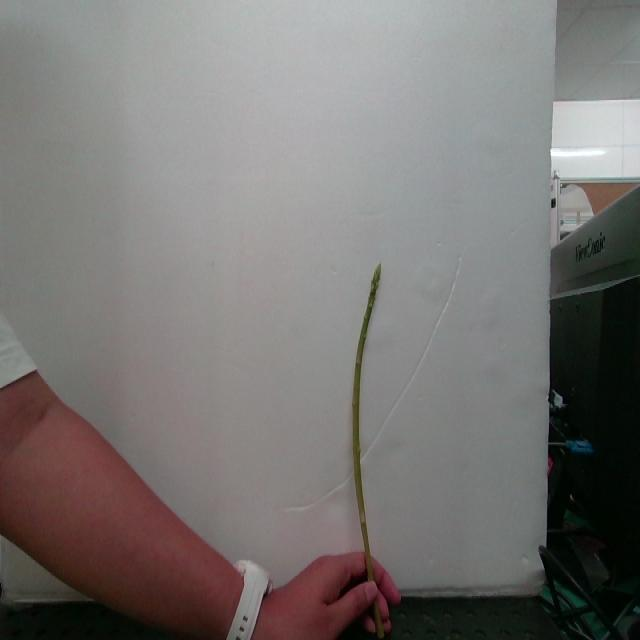aspargus: (351, 266, 383, 582)
